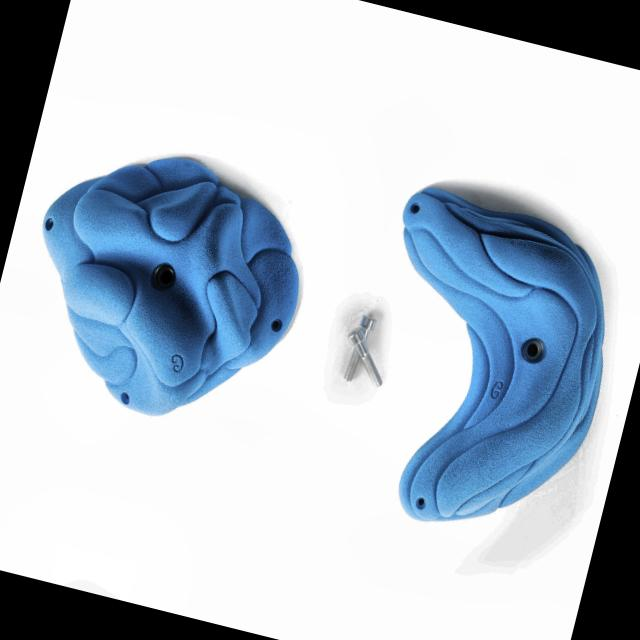Hold: (327, 174, 640, 556), (0, 128, 328, 446)
